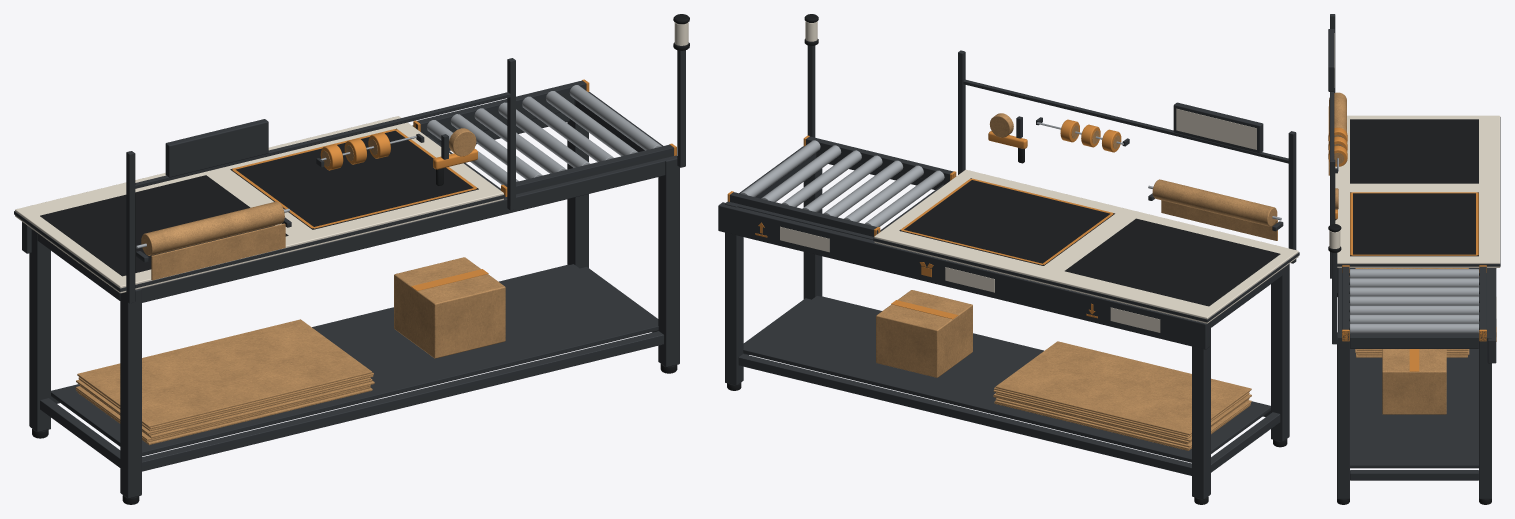
The model's file is Packtisch01.glb.
3 renders of one model, left to right at view 1: azimuth 30°, elevation 25°; view 2: azimuth 150°, elevation 25°; view 3: azimuth 270°, elevation 25°, orthographic. The views are drawn at different scales.
Visible parts, largest first — view 1: Packtisch01__SteelDark, Packtisch01__Cardboard, Packtisch01__Black, Packtisch01__WallWhite, Packtisch01__BareSteel, Packtisch01__SafetyOrange; view 2: Packtisch01__SteelDark, Packtisch01__Cardboard, Packtisch01__Black, Packtisch01__WallWhite, Packtisch01__BareSteel, Packtisch01__SafetyOrange; view 3: Packtisch01__SteelDark, Packtisch01__Black, Packtisch01__BareSteel, Packtisch01__WallWhite, Packtisch01__Cardboard, Packtisch01__SafetyOrange.
Part boxes in pixels (x1,y1,x2,y2): Packtisch01__SteelDark: (14,50,685,498); Packtisch01__Cardboard: (75,128,505,444); Packtisch01__Black: (32,14,689,504); Packtisch01__WallWhite: (15,116,503,293); Packtisch01__BareSteel: (136,85,661,248); Packtisch01__SafetyOrange: (232,79,676,291); Packtisch01__SteelDark: (718,45,1299,499); Packtisch01__Cardboard: (876,113,1277,450); Packtisch01__Black: (727,14,1287,504); Packtisch01__WallWhite: (780,108,1298,332); Packtisch01__BareSteel: (741,122,1281,226); Packtisch01__SafetyOrange: (727,119,1121,319); Packtisch01__SteelDark: (1328,14,1500,499); Packtisch01__Black: (1328,119,1491,504); Packtisch01__BareSteel: (1337,158,1478,333); Packtisch01__WallWhite: (1334,33,1500,326); Packtisch01__Cardboard: (1328,92,1469,414); Packtisch01__SafetyOrange: (1328,127,1496,371).
Bounding box in the file's own units: 2.39 × 1.43 × 0.8.
6 materials, 1 textured.
